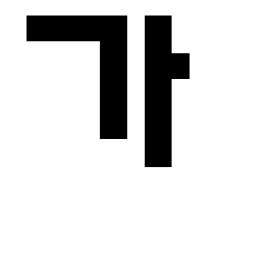Gaji: (138, 43, 184, 92)
